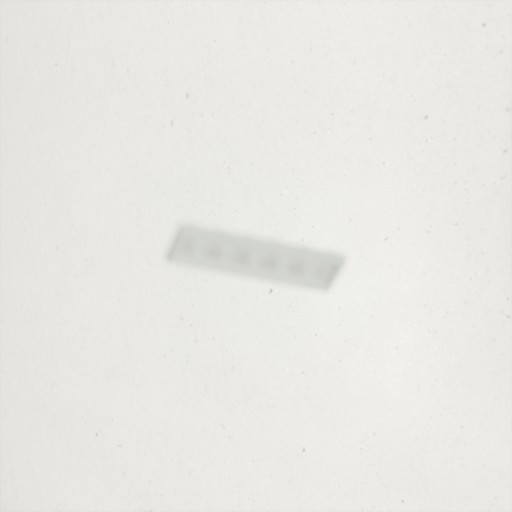lego: (164, 222, 348, 294)
